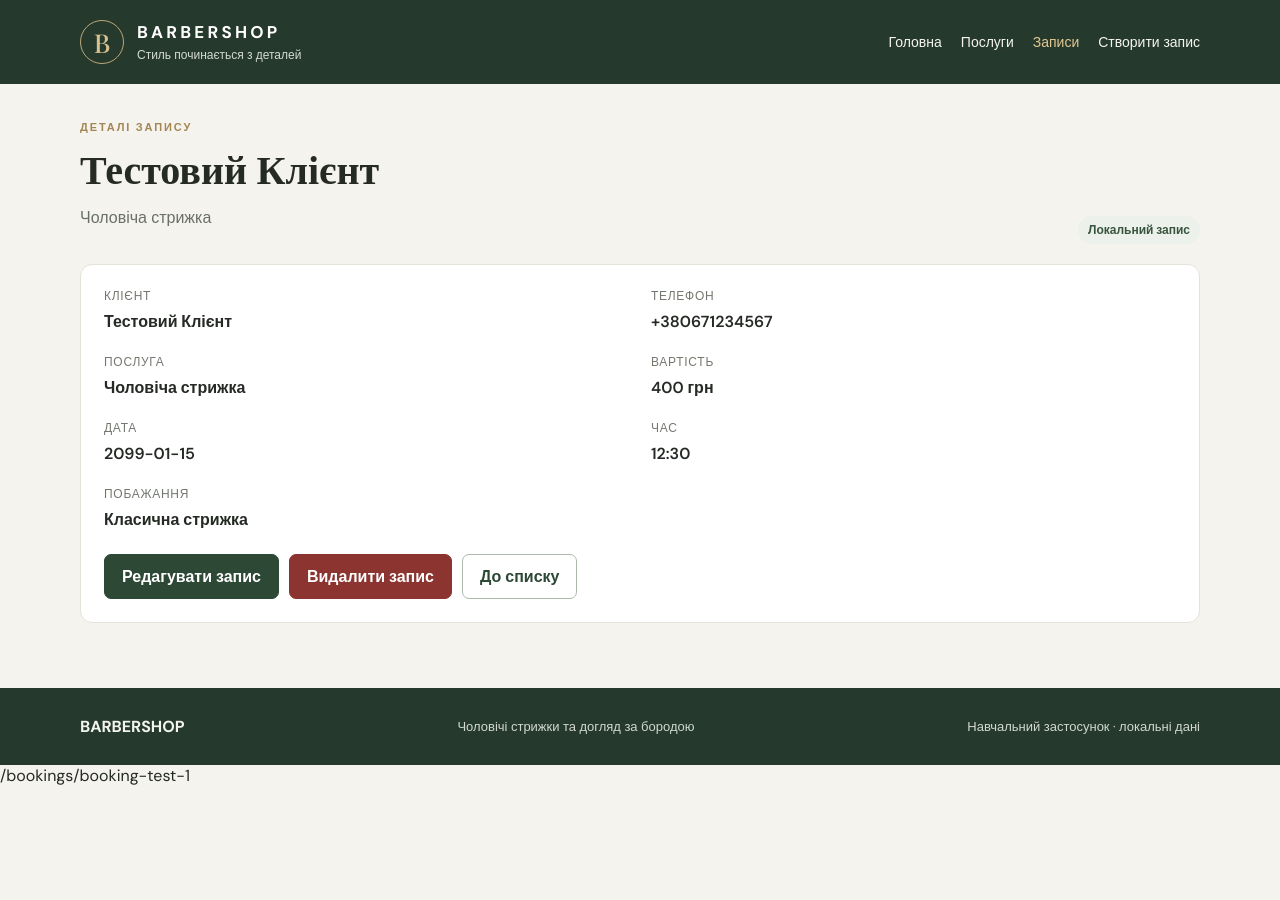
Test: підтверджене видалення прибирає запис зі спільного списку
Expected: the heading "Тестовий Клієнт" is shown, [80, 146, 379, 191]
Click the button "Видалити запис".
click(370, 576)  # box [289, 554, 452, 599]
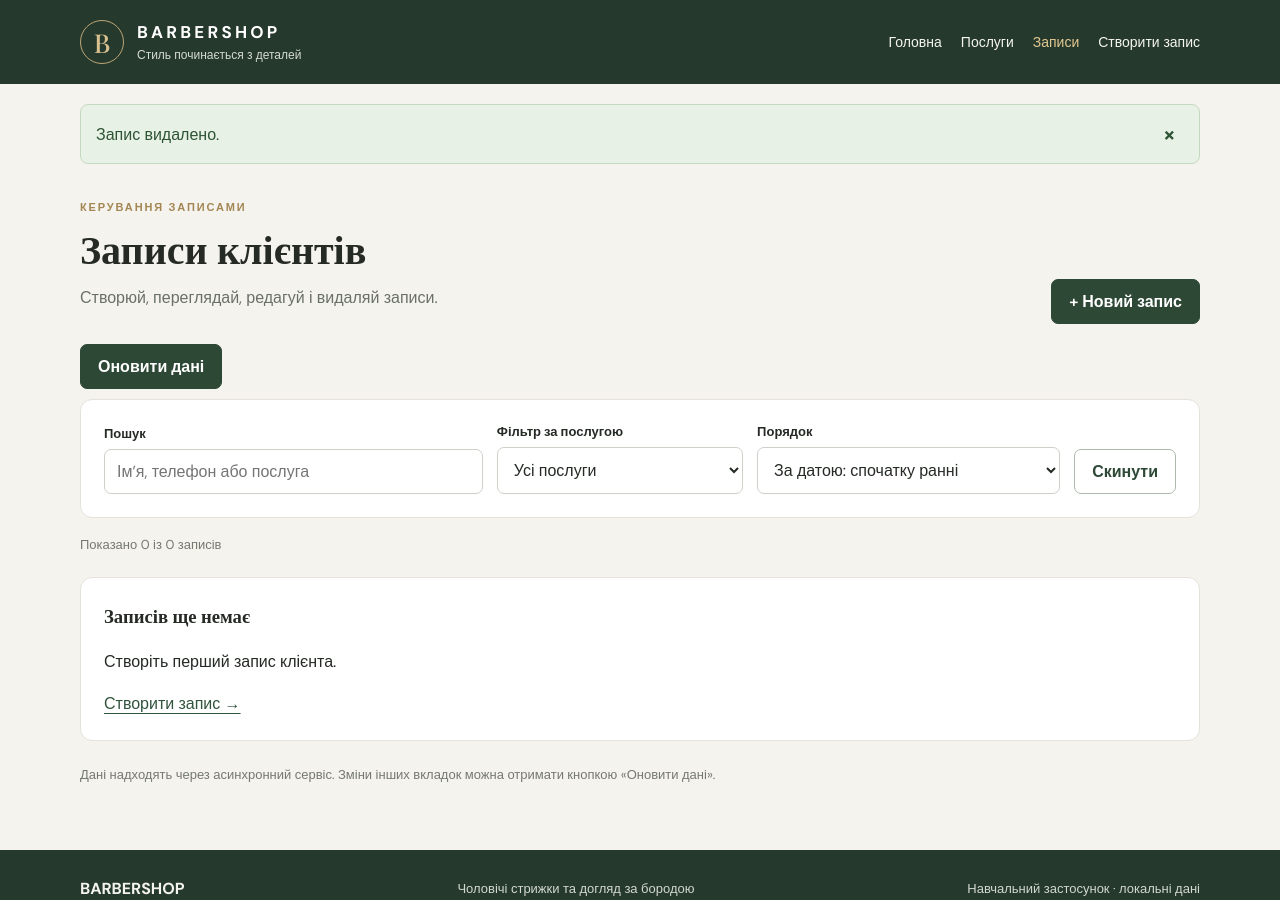
Result: the heading "Записів ще немає" is shown at [104, 603, 250, 628]
